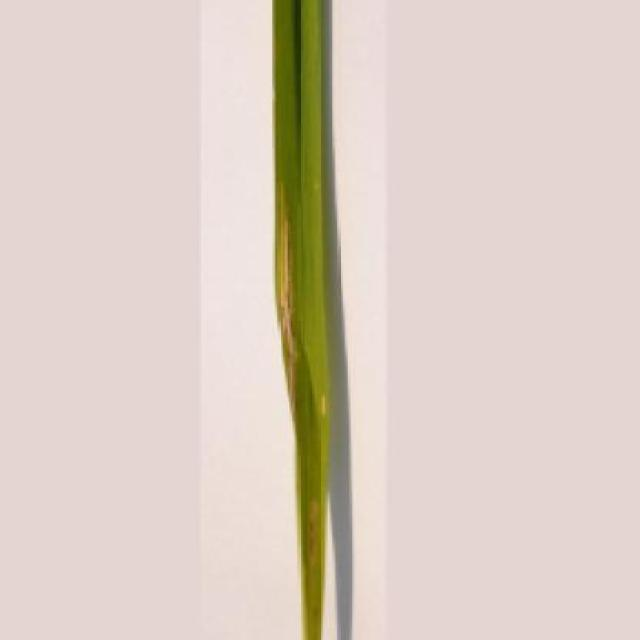Brown_Spot: (264, 0, 338, 640)
